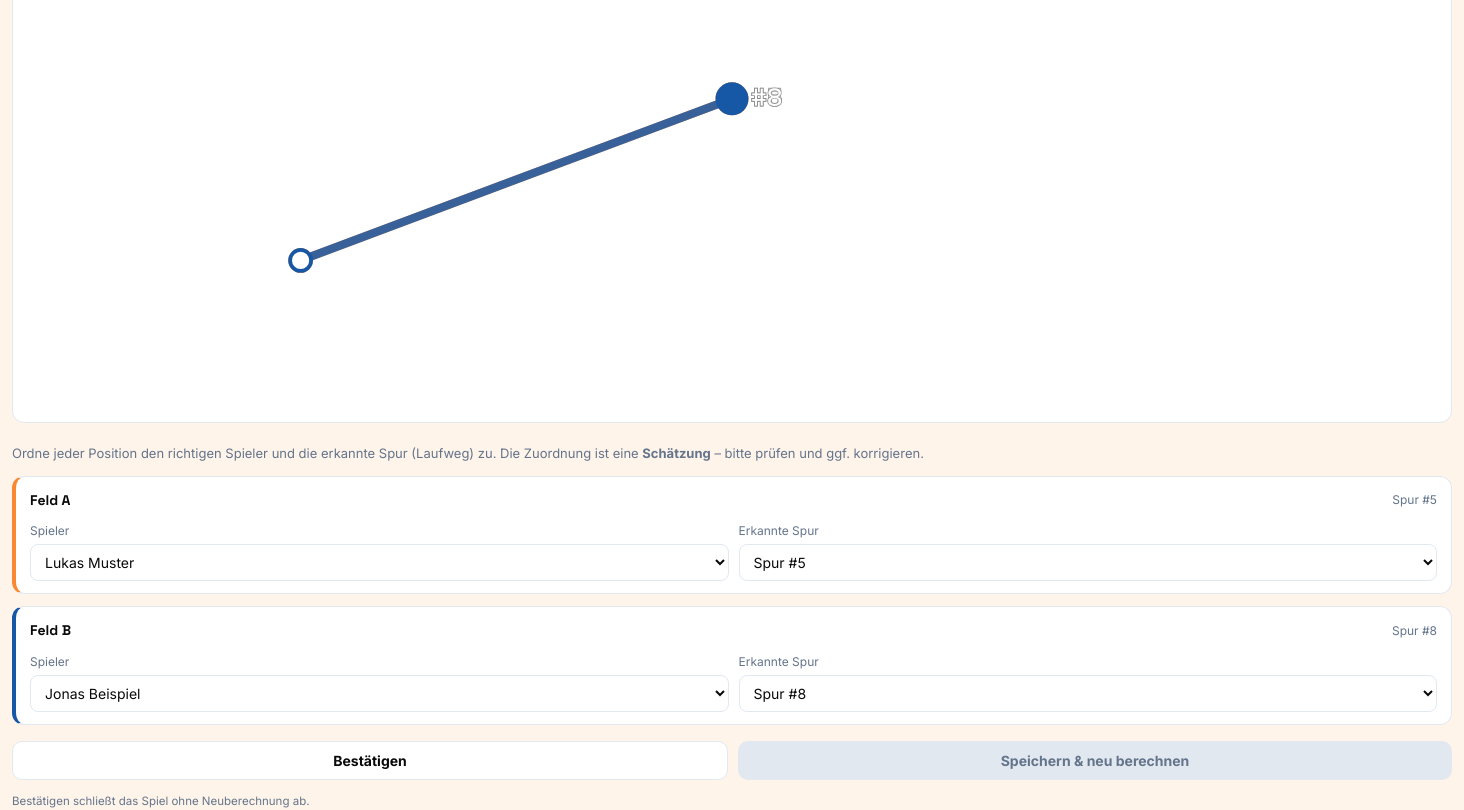
PlayerReviewBoard › blocks Save and warns when a player is assigned twice
The image size is (1464, 810).
(page scrolled)
Select "Lukas Muster" in the dropdown labelled "Spieler" below "Feld B" at (379, 694), box [30,675,728,712]
(page scrolled)
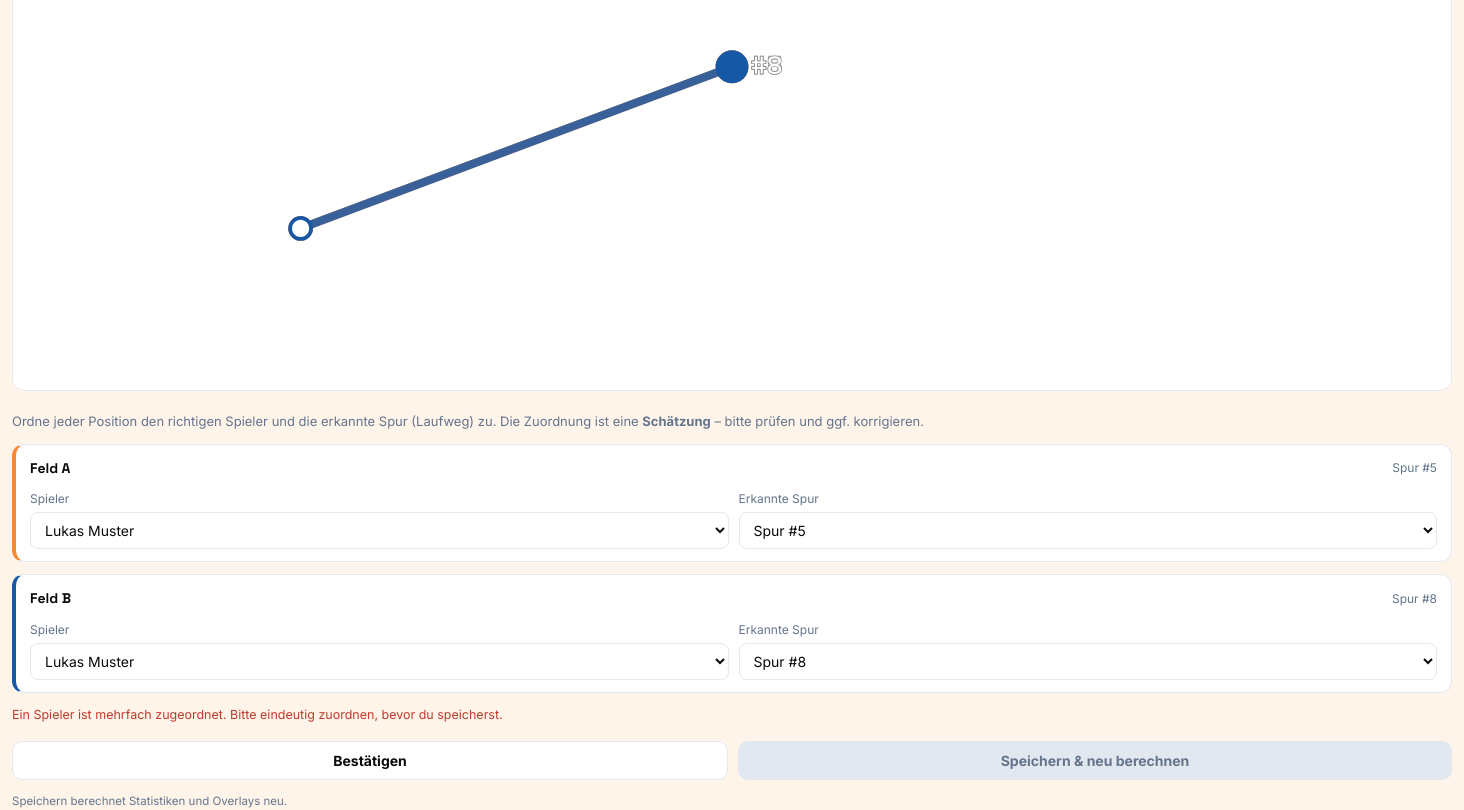
expect the button "Speichern & neu berechnen" is disabled: met, box [738,741,1452,780]
expect the text "mehrfach zugeordnet" is shown: met, box [12,707,230,722]
